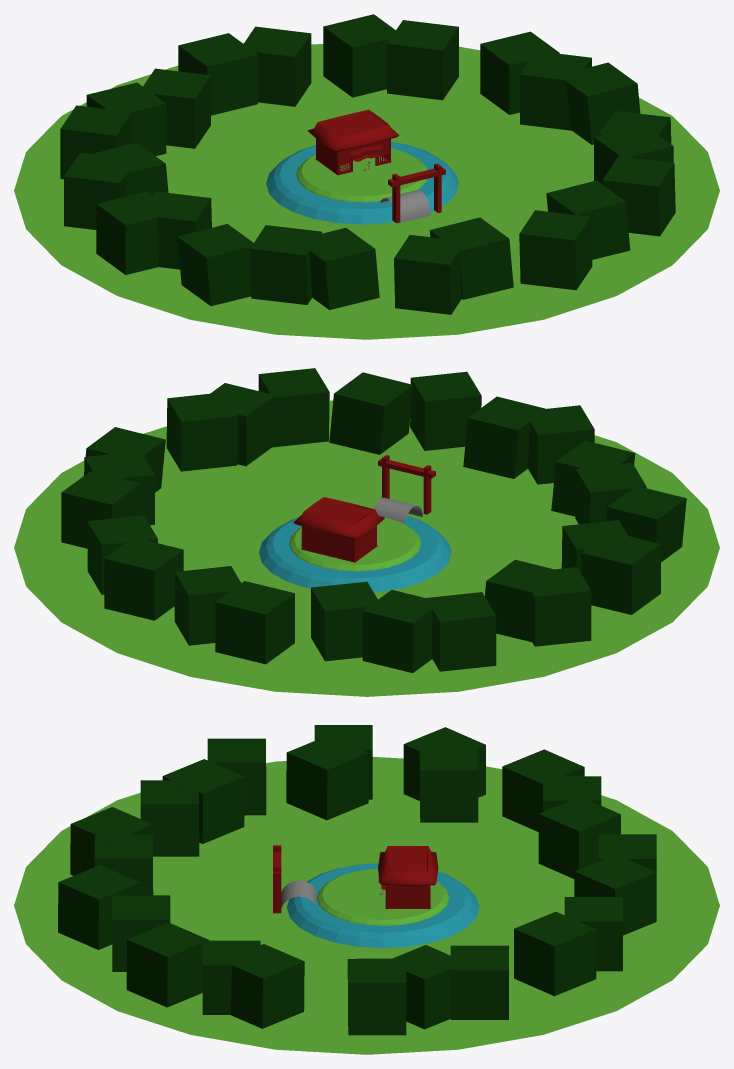
The model's file is Level.obj.
3 renders of one model, top to bottom at view 1: azimuth 30°, elevation 25°; view 2: azimuth 150°, elevation 25°; view 3: azimuth 270°, elevation 25°, orthographic.
Parts seen in each view (by area): view 1: group3 Level pDisc2, group3 Level pDisc3, group3 Level group2 pCube11, group3 Level group2 pCube7, group3 Level group1 pCube5, group3 Level group2 pCube12, group3 Level group1 pCube8, group3 Level group1 pCube4, group3 Level group1 pCube13, group3 Level group2 pCube15, group3 Level group1 pCube7, group3 Level group2 pCube10 (+20 smaller); view 2: group3 Level pDisc2, group3 Level pDisc3, group3 Level group1 pCube7, group3 Level group1 pCube12, group3 Level group1 pCube4, group3 Level group1 pCube8, group3 Level group1 pCube6, group3 Level group2 pCube9, group3 Level group2 pCube4, group3 Level group2 pCube11, group3 Level group1 pCube15, group3 Level group2 pCube5 (+20 smaller); view 3: group3 Level pDisc2, group3 Level pDisc3, group3 Level group2 pCube7, group3 Level group2 pCube10, group3 Level group2 pCube13, group3 Level group2 pCube9, group3 Level pCube3 group2, group3 Level group1 pCube10, group3 Level group2 pCube11, group3 Level group1 pCube9, group3 pDisc1 Level, group3 Level pCube3 group1 (+20 smaller).
Boxes of the visible parts, <box> form: group3 Level pDisc2: <box>14,44,719,339</box>; group3 Level pDisc3: <box>266,142,458,224</box>; group3 Level group2 pCube11: <box>519,210,592,290</box>; group3 Level group2 pCube7: <box>387,20,458,100</box>; group3 Level group1 pCube5: <box>177,224,256,306</box>; group3 Level group2 pCube12: <box>394,235,465,314</box>; group3 Level group1 pCube8: <box>323,14,402,97</box>; group3 Level group1 pCube4: <box>96,191,175,274</box>; group3 Level group1 pCube13: <box>309,227,379,309</box>; group3 Level group2 pCube15: <box>250,225,321,304</box>; group3 Level group1 pCube7: <box>178,33,257,115</box>; group3 Level group2 pCube10: <box>602,156,675,236</box>; group3 Level pDisc2: <box>14,400,719,696</box>; group3 Level pDisc3: <box>259,516,451,592</box>; group3 Level group1 pCube7: <box>215,581,294,664</box>; group3 Level group1 pCube12: <box>329,372,413,454</box>; group3 Level group1 pCube4: <box>581,531,660,614</box>; group3 Level group1 pCube8: <box>104,537,183,620</box>; group3 Level group1 pCube6: <box>362,589,441,672</box>; group3 Level group2 pCube9: <box>166,392,237,471</box>; group3 Level group2 pCube4: <box>426,592,496,671</box>; group3 Level group2 pCube11: <box>410,371,481,450</box>; group3 Level group1 pCube15: <box>463,396,545,478</box>; group3 Level group2 pCube5: <box>523,567,591,646</box>; group3 Level pDisc2: <box>14,757,719,1054</box>; group3 Level pDisc3: <box>286,863,479,948</box>; group3 Level group2 pCube7: <box>514,911,596,996</box>; group3 Level group2 pCube10: <box>126,922,209,1007</box>; group3 Level group2 pCube13: <box>286,741,368,820</box>; group3 Level group2 pCube9: <box>223,944,304,1028</box>; group3 Level pCube3 group2: <box>538,797,620,878</box>; group3 Level group1 pCube10: <box>347,958,406,1035</box>; group3 Level group2 pCube11: <box>58,865,140,949</box>; group3 Level group1 pCube9: <box>450,945,508,1019</box>; group3 pDisc1 Level: <box>317,869,449,925</box>; group3 Level pCube3 group1: <box>419,748,478,822</box>.
Bounding box in the file's own units: 273 × 22.89 × 273.
